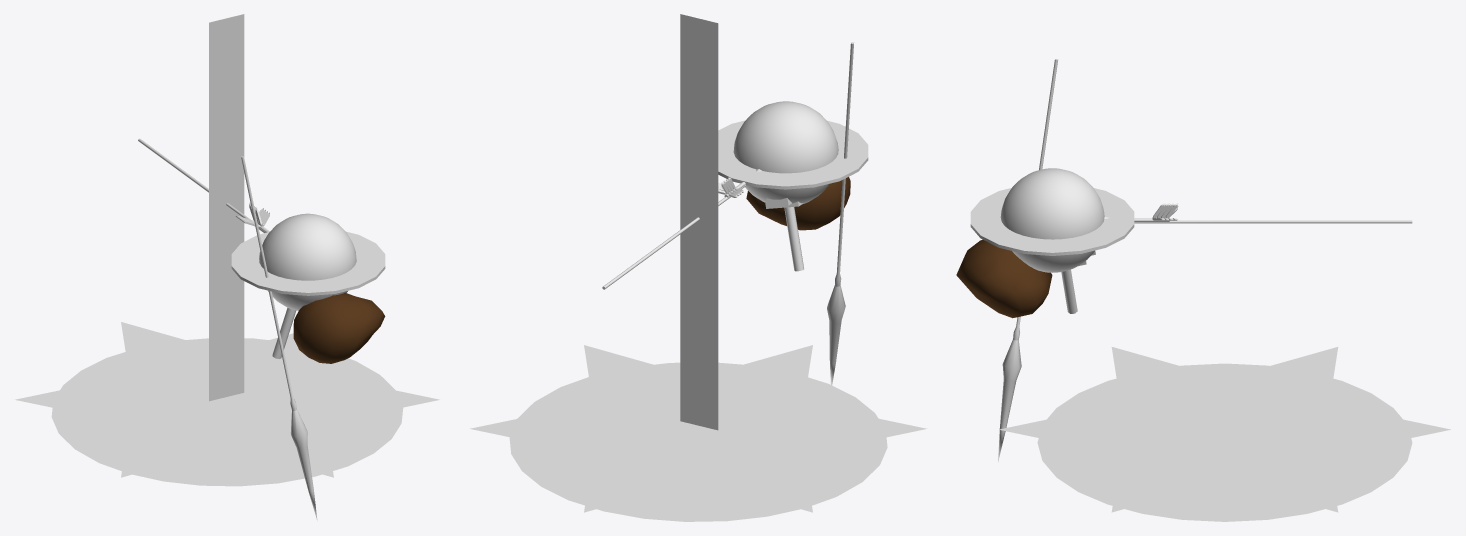
The model's file is AugProj2.FBX.
The picture shows the model from 3 angles, left to right: view 1: azimuth 30°, elevation 25°; view 2: azimuth 150°, elevation 25°; view 3: azimuth 270°, elevation 25°; orthographic projection. The views are drawn at different scales.
Visible parts, largest first — view 1: LeaderStar, Plane001, SelectionCircle, Grid, forwardSpell, Sphere002, RoundShield2, impaleRSpear; view 2: LeaderStar, Plane001, SelectionCircle, Grid, forwardSpell, RoundShield2, Sphere002, impaleRSpear, Mjolnir2, LSpear2; view 3: LeaderStar, SelectionCircle, Grid, forwardSpell, RoundShield2, Sphere002, impaleRSpear, LSpear2.
Boxes of the visible parts, x1,y1,x2,y2 form: LeaderStar: [15, 322, 439, 477]; Plane001: [209, 14, 244, 401]; SelectionCircle: [51, 338, 403, 486]; Grid: [116, 350, 338, 443]; forwardSpell: [259, 213, 356, 310]; Sphere002: [293, 292, 385, 363]; RoundShield2: [231, 231, 385, 295]; impaleRSpear: [241, 156, 317, 520]; LeaderStar: [469, 345, 927, 512]; Plane001: [680, 14, 718, 430]; SelectionCircle: [509, 362, 887, 521]; Grid: [579, 375, 817, 476]; forwardSpell: [733, 101, 838, 204]; RoundShield2: [718, 120, 868, 189]; Sphere002: [746, 177, 850, 230]; impaleRSpear: [827, 42, 853, 385]; Mjolnir2: [765, 198, 803, 271]; LSpear2: [602, 169, 761, 289]; LeaderStar: [999, 347, 1450, 512]; SelectionCircle: [1037, 363, 1412, 521]; Grid: [1138, 390, 1311, 462]; forwardSpell: [1000, 168, 1104, 272]; RoundShield2: [970, 188, 1134, 255]; Sphere002: [956, 239, 1052, 318]; impaleRSpear: [998, 59, 1057, 462]; LSpear2: [1104, 216, 1412, 223].
Bounding box in the file's own units: 1.36 × 1.71 × 1.71.
